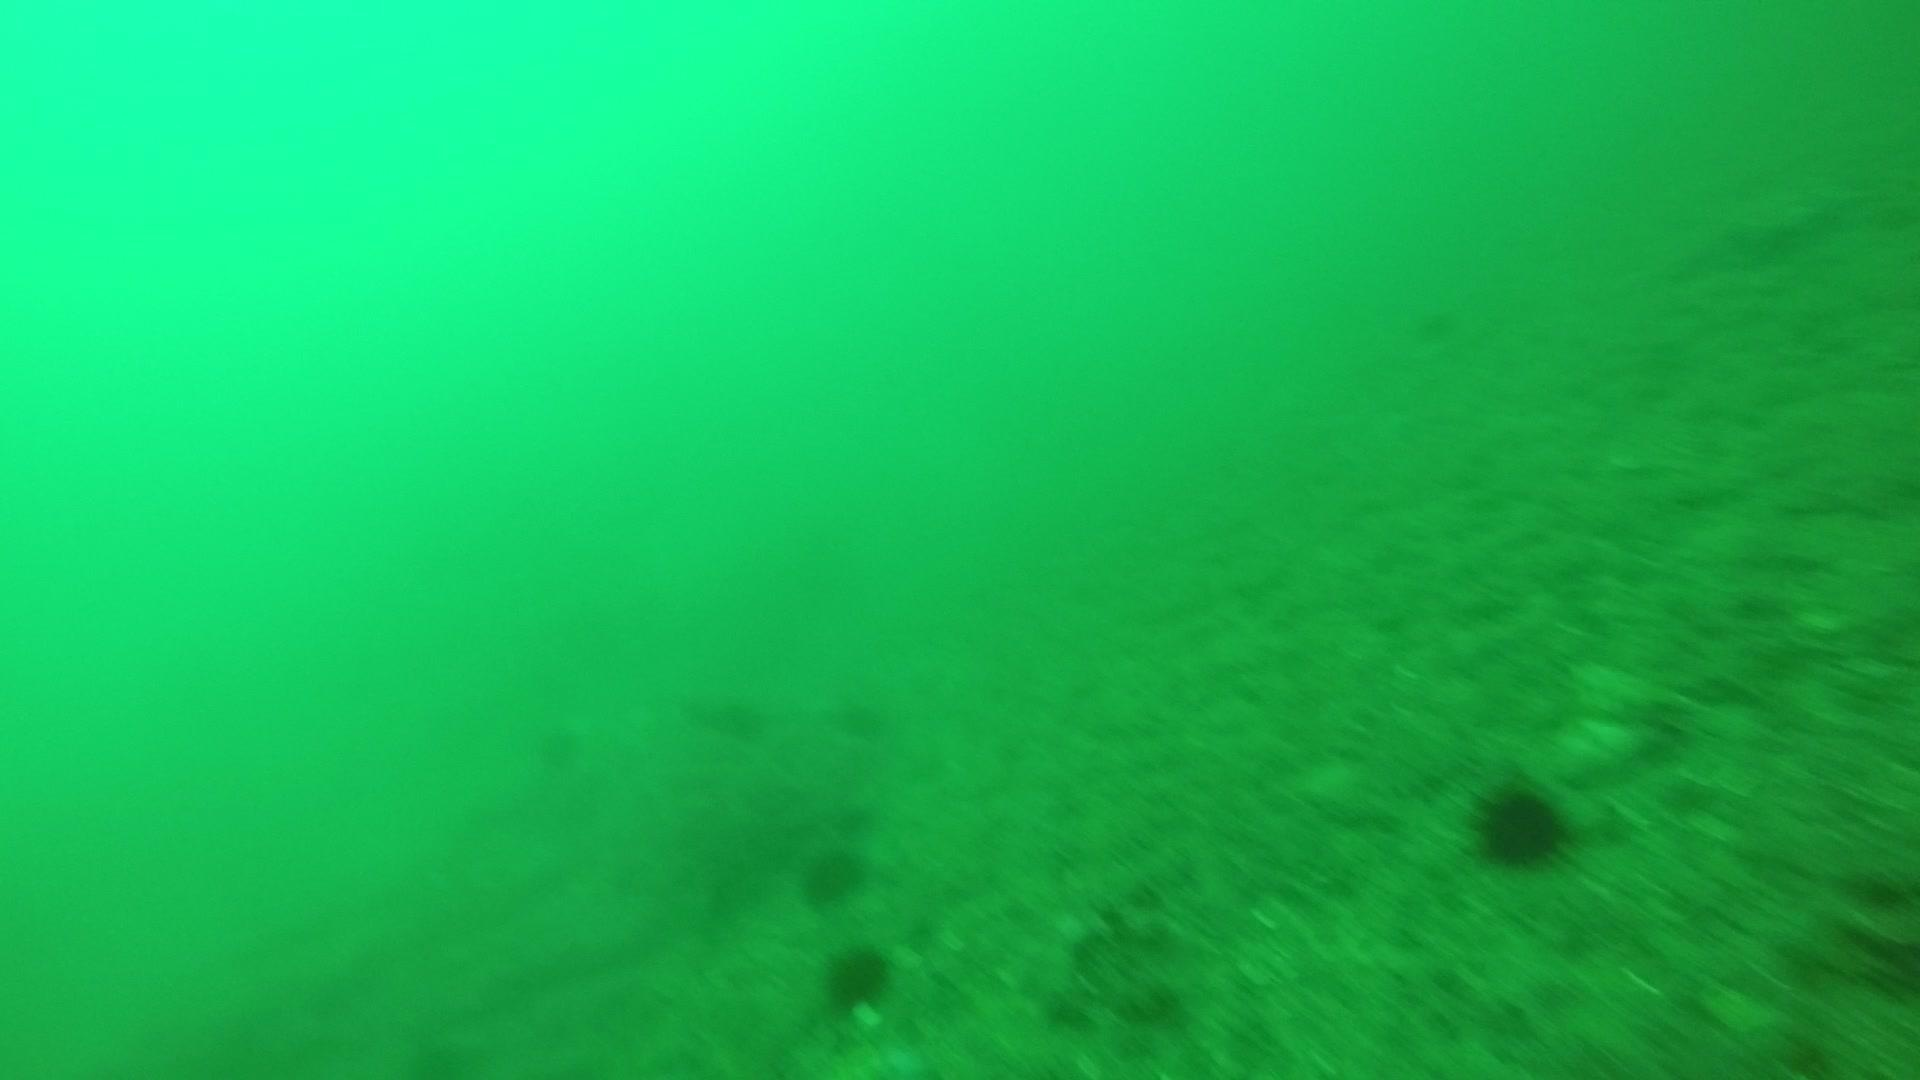echinus: (1466, 775, 1577, 873), (818, 938, 898, 1015), (796, 839, 870, 909), (524, 713, 597, 783), (829, 687, 894, 742)
